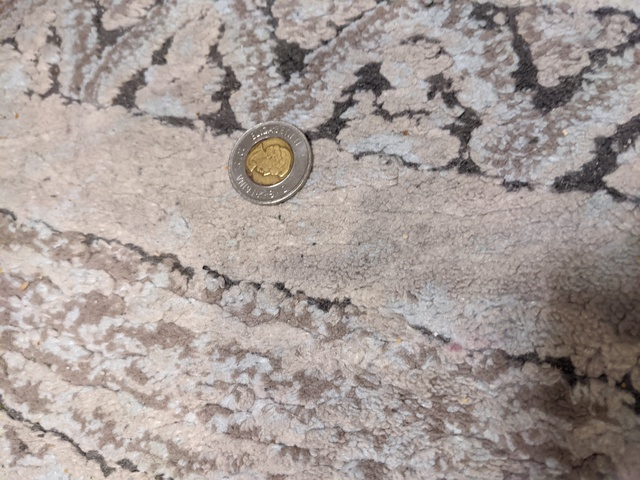twonie: (230, 120, 308, 219)
